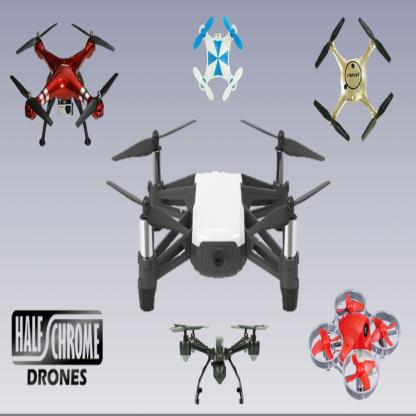drone: (107, 123, 330, 313), (6, 16, 121, 150), (304, 272, 404, 404), (306, 13, 398, 149), (162, 314, 270, 407), (186, 15, 248, 106)
